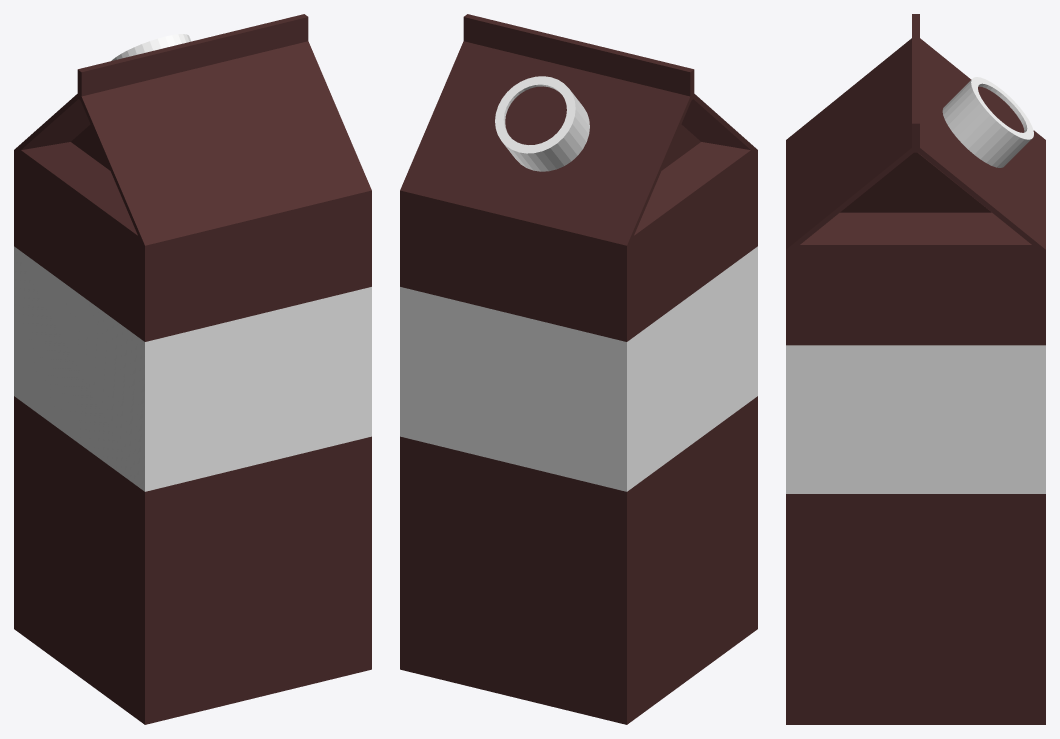
File: chocomilk.fbx
3 renders of one model, left to right at view 1: azimuth 30°, elevation 25°; view 2: azimuth 150°, elevation 25°; view 3: azimuth 270°, elevation 25°, orthographic.
Visible parts, largest first — view 1: Carton; view 2: Carton; view 3: Carton.
Part boxes in pixels (x1,y1,x2,y2): Carton: (14,14,371,724); Carton: (400,14,757,724); Carton: (786,14,1045,724).
Size of the model in its own units: 200 by 511 by 200.
